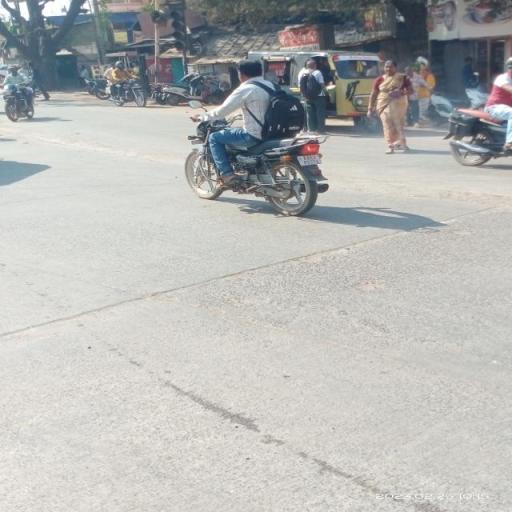bike: (182, 62, 336, 216)
withouthelmet: (236, 61, 262, 81)
